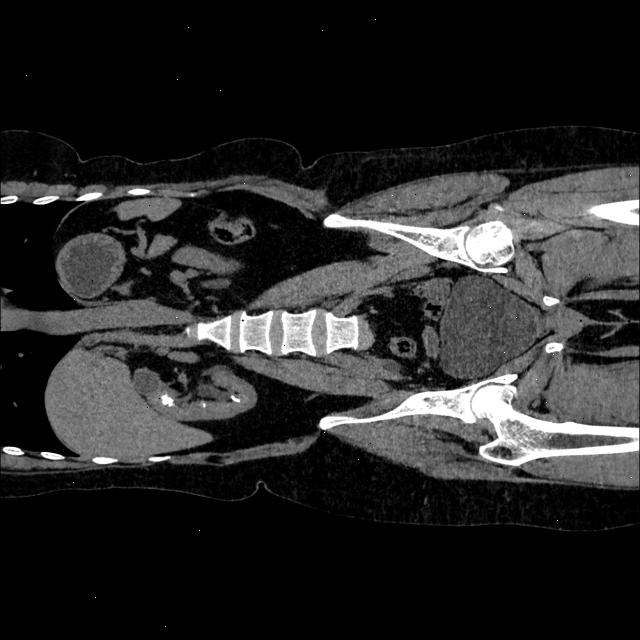kidneystone: (161, 394, 174, 406)
